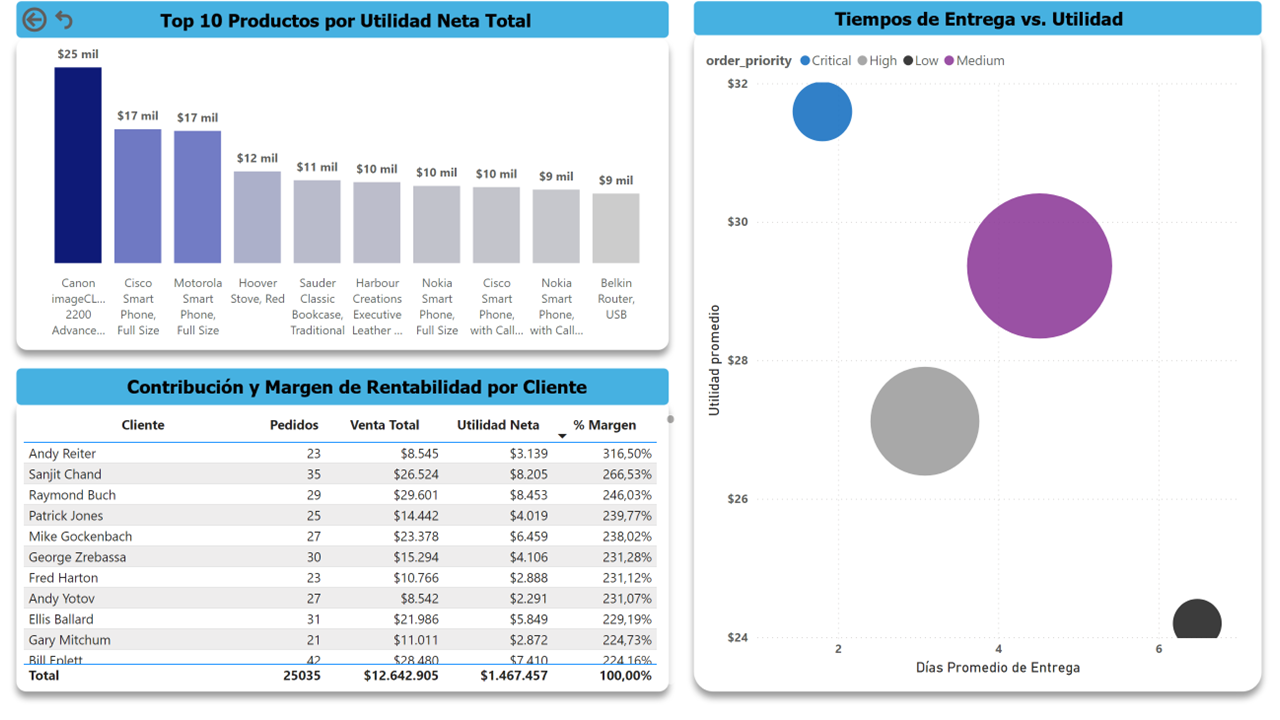

Layout of this report page (visuals, bound fields, positions):
{"tool":"powerbi","page":{"name":"Clientes y Logística","canvas":[1280,720],"ordinal":1},"visuals":[{"type":"tableEx","fields":{"Values":["Global_Superstore_Clean.customer_name","Global_Superstore_Clean.total_orders","Global_Superstore_Clean.total_spent","Global_Superstore_Clean.total_profit","Global_Superstore_Clean.profit_margin"]},"box":[9.6,414.9,671.5,283.9],"z":0},{"type":"clusteredColumnChart","title":"Top 10 Productos por Utilidad Neta Total","fields":{"Category":["Global_Superstore_Clean.product_name"],"Y":["Global_Superstore_Clean.total_profit"]},"box":[9.6,28.7,660.6,320.8],"z":1000},{"type":"scatterChart","fields":{"X":["Global_Superstore_Clean.avg_shipping_days"],"Y":["Global_Superstore_Clean.avg_profit"],"Size":["Global_Superstore_Clean.total_orders"],"Series":["Global_Superstore_Clean.order_priority"]},"box":[702.9,40.9,554.1,648.3],"z":2000},{"type":"actionButton","box":[10,2.5,41.2,33.8],"z":5000},{"type":"actionButton","box":[42.5,6.2,42.5,27.5],"z":6001}]}

Visuals, with their boxes in screenshot pixels (x1, y1, x2, y2), scaled from the page's 1280x720 canvas onto the 1280x720 screenshot:
tableEx - Global_Superstore_Clean.customer_name x Global_Superstore_Clean.total_orders: bbox=[10, 415, 681, 699]
"Top 10 Productos por Utilidad Neta Total" clusteredColumnChart: bbox=[10, 29, 670, 350]
scatterChart - Global_Superstore_Clean.avg_shipping_days x Global_Superstore_Clean.avg_profit: bbox=[703, 41, 1257, 689]
actionButton: bbox=[10, 2, 51, 36]
actionButton: bbox=[42, 6, 85, 34]
